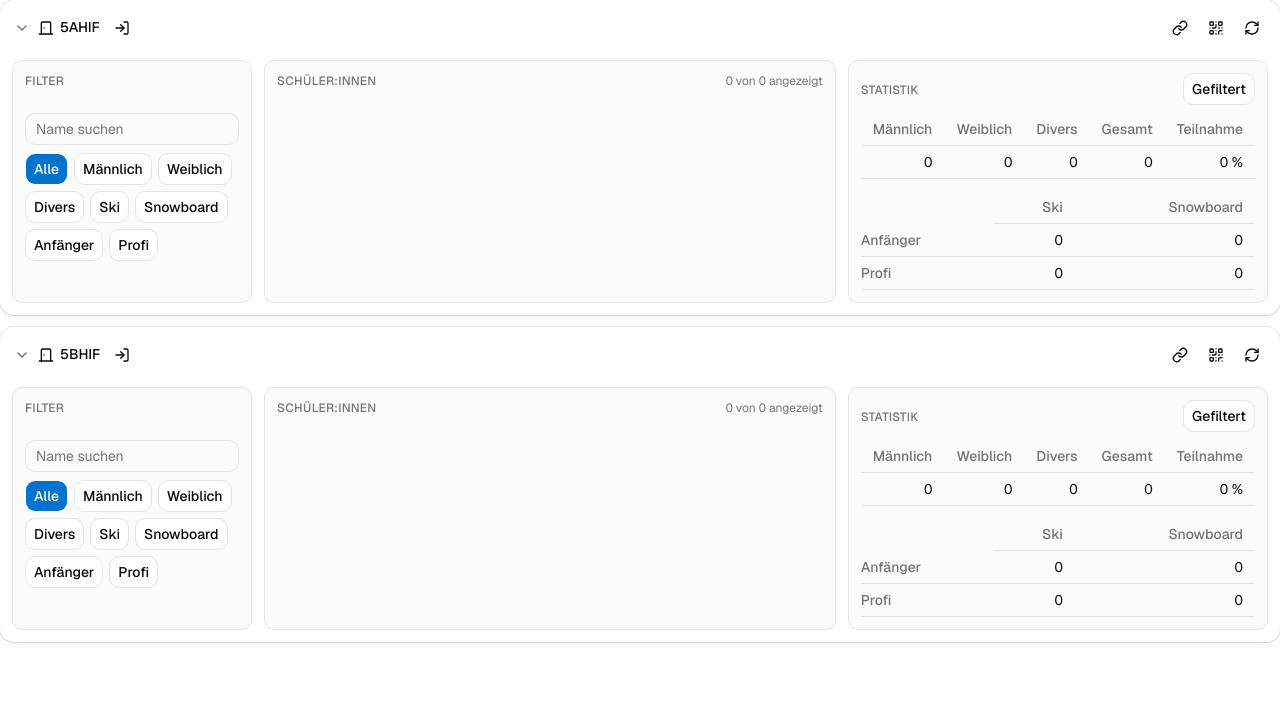
it: ClassCards — the invitation controls › says what the server said when a link cannot be handed out
Click the button named "Schüler:innen-Anmeldelink für 5AHIF kopieren" at (1180, 28), box [1164,12,1196,44]
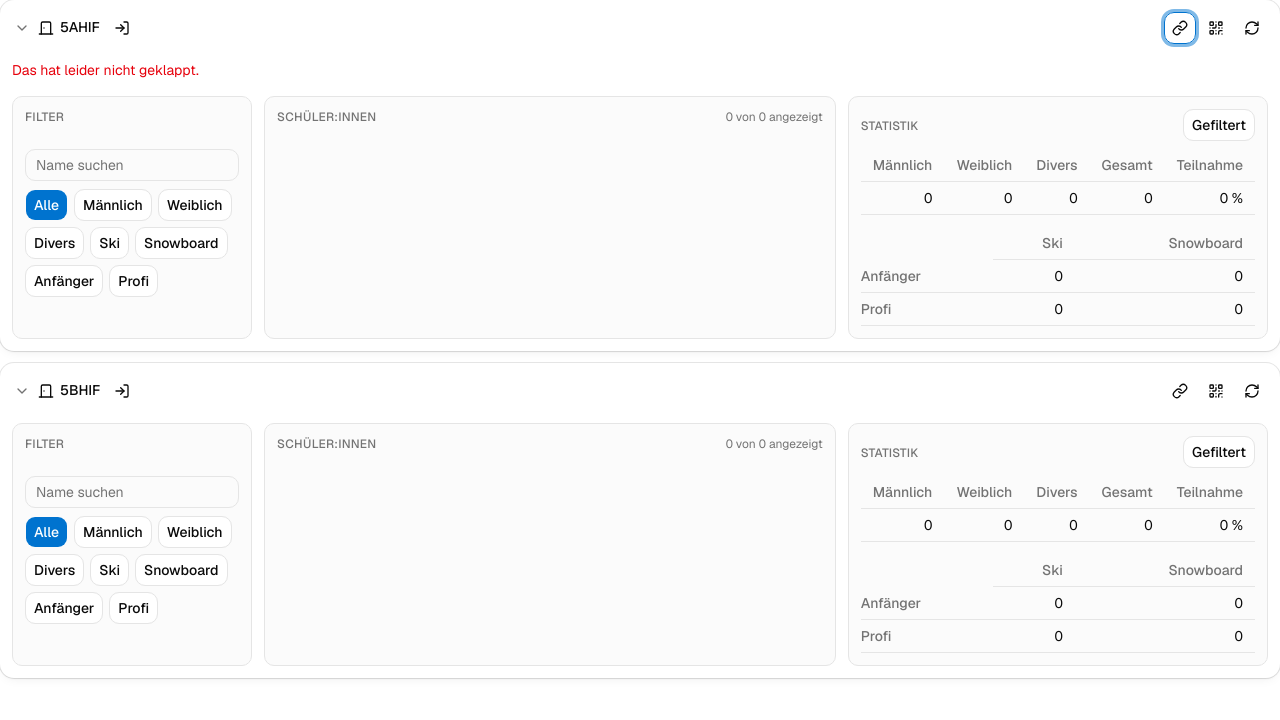
Check: the message "Das hat leider nicht geklappt." is shown, box [12,61,199,79]
